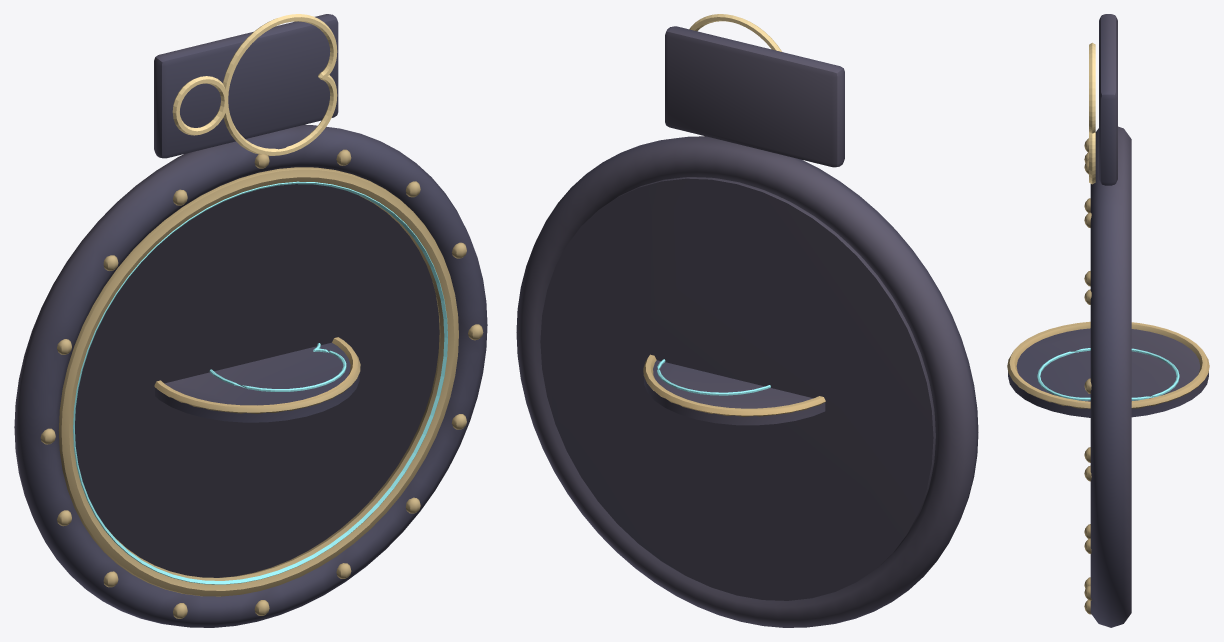
The model's file is mandel_portal.glb.
3 renders of one model, left to right at view 1: azimuth 30°, elevation 25°; view 2: azimuth 150°, elevation 25°; view 3: azimuth 270°, elevation 25°, orthographic. The views are drawn at different scales.
Visible parts, largest first — view 1: mandel_frame, mandel_pad; view 2: mandel_frame, mandel_pad; view 3: mandel_frame, mandel_pad.
Part boxes in pixels (x1,y1,x2,y2): mandel_frame: (14,14,487,627); mandel_pad: (154,337,360,422); mandel_frame: (516,14,978,627); mandel_pad: (643,354,825,425); mandel_frame: (1084,14,1131,627); mandel_pad: (1007,321,1209,417).
Size of the model in its own units: 3.76 by 4.66 by 1.51.
